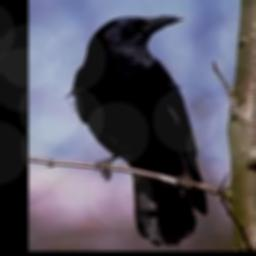Crow: (65, 14, 206, 246)
